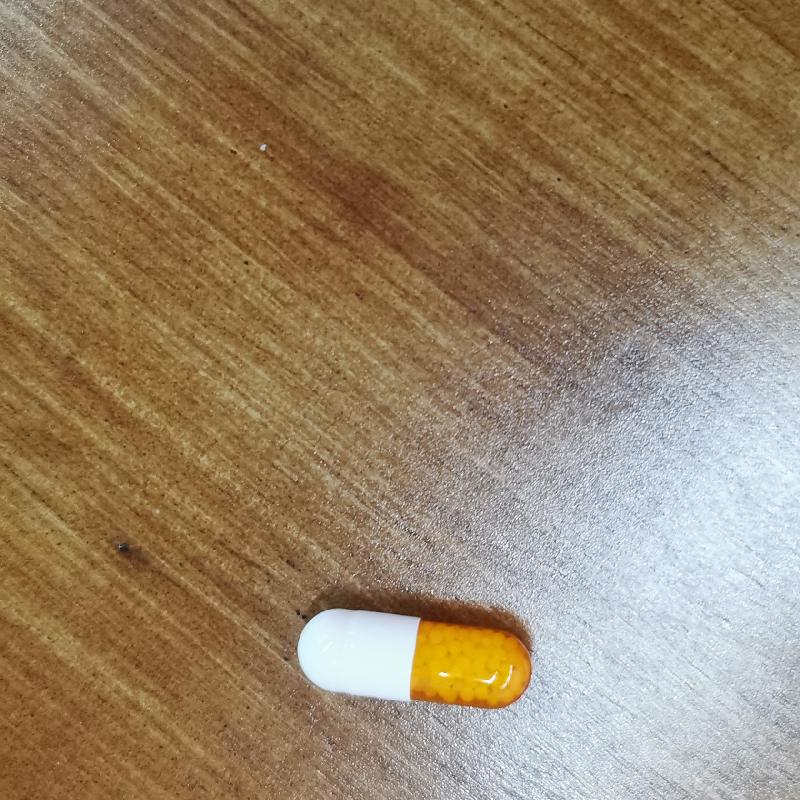pills: (286, 580, 544, 734)
